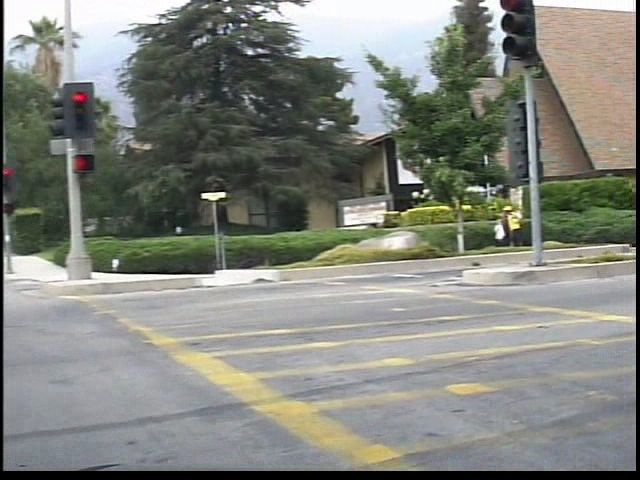person: (513, 195, 536, 250)
